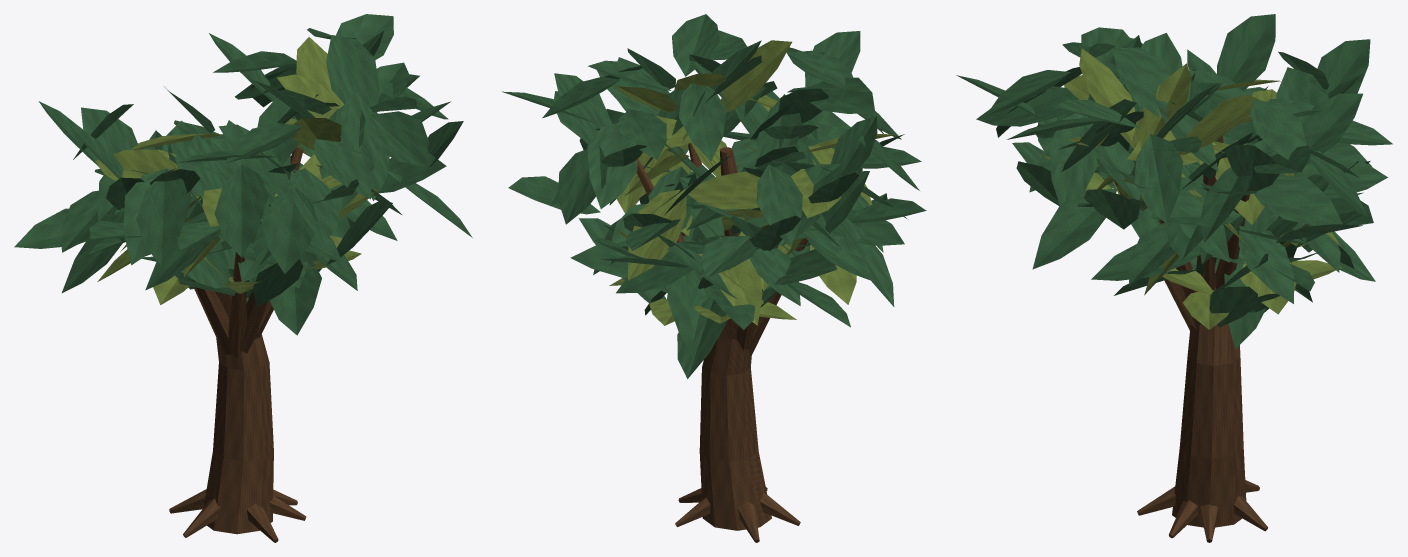
File: aurion_oak_tree.glb
3 renders of one model, left to right at view 1: azimuth 30°, elevation 25°; view 2: azimuth 150°, elevation 25°; view 3: azimuth 270°, elevation 25°, orthographic. The views are drawn at different scales.
Parts seen in each view (by area): view 1: aurion_oak_tree; view 2: aurion_oak_tree; view 3: aurion_oak_tree.
Part boxes in pixels (bbox=[...]): aurion_oak_tree: bbox=[14, 14, 472, 542]; aurion_oak_tree: bbox=[502, 14, 926, 542]; aurion_oak_tree: bbox=[956, 14, 1392, 542].
Bounding box in the file's own units: 4.01 × 4.73 × 3.91.
1 material, 1 textured.
